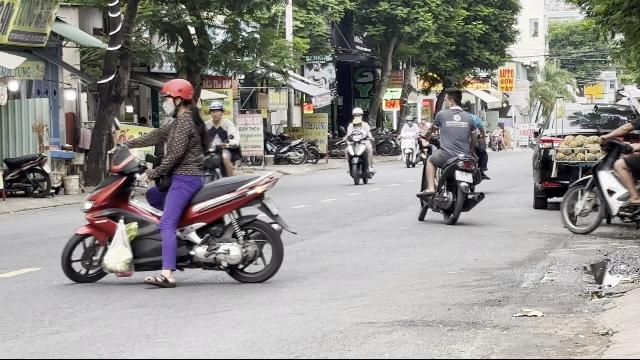helmet: (159, 78, 195, 116), (351, 107, 363, 121)
licenseplate: (454, 170, 474, 184)
motorcyclist: (55, 74, 292, 284), (551, 70, 639, 244), (414, 87, 490, 224), (342, 107, 376, 185)
nohelmet: (442, 88, 462, 108)
